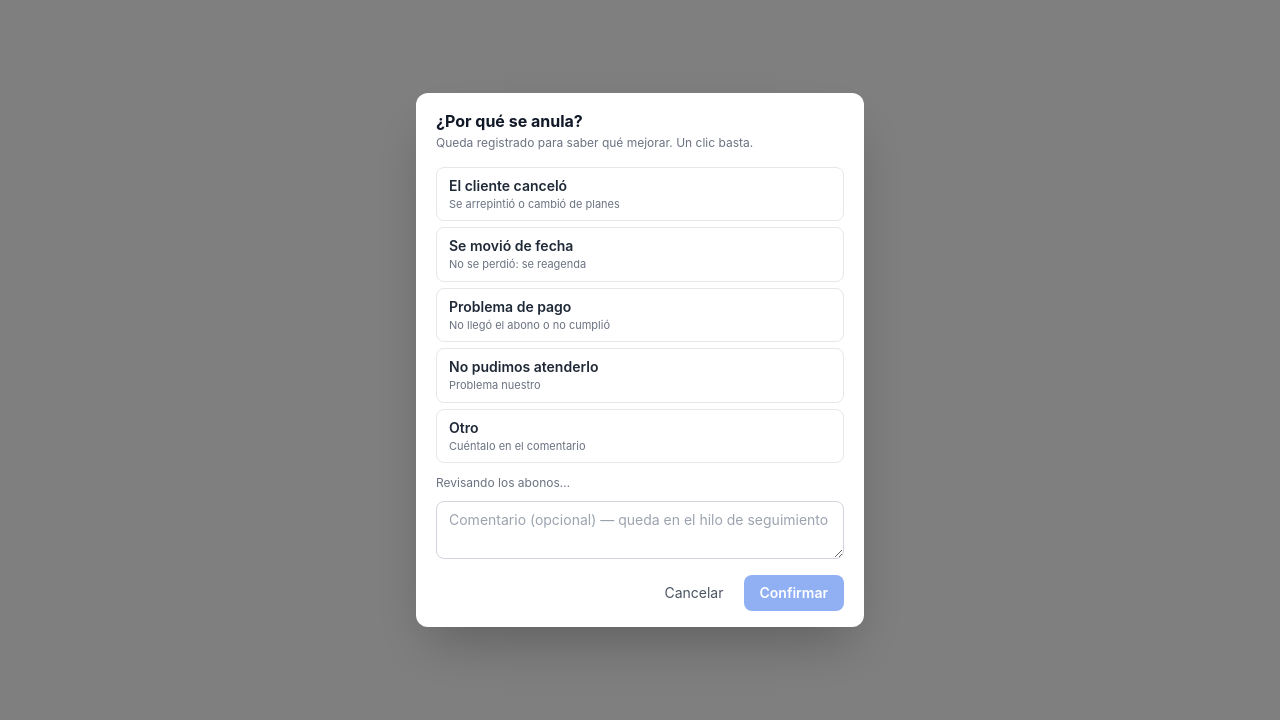
Anular con abonos › sin abonos no pregunta nada
What coordinates should you click on to do the following:
click the text "No pudimos atenderlo"
I would click on:
 (524, 367)
Its box is 449,358 -> 598,375.
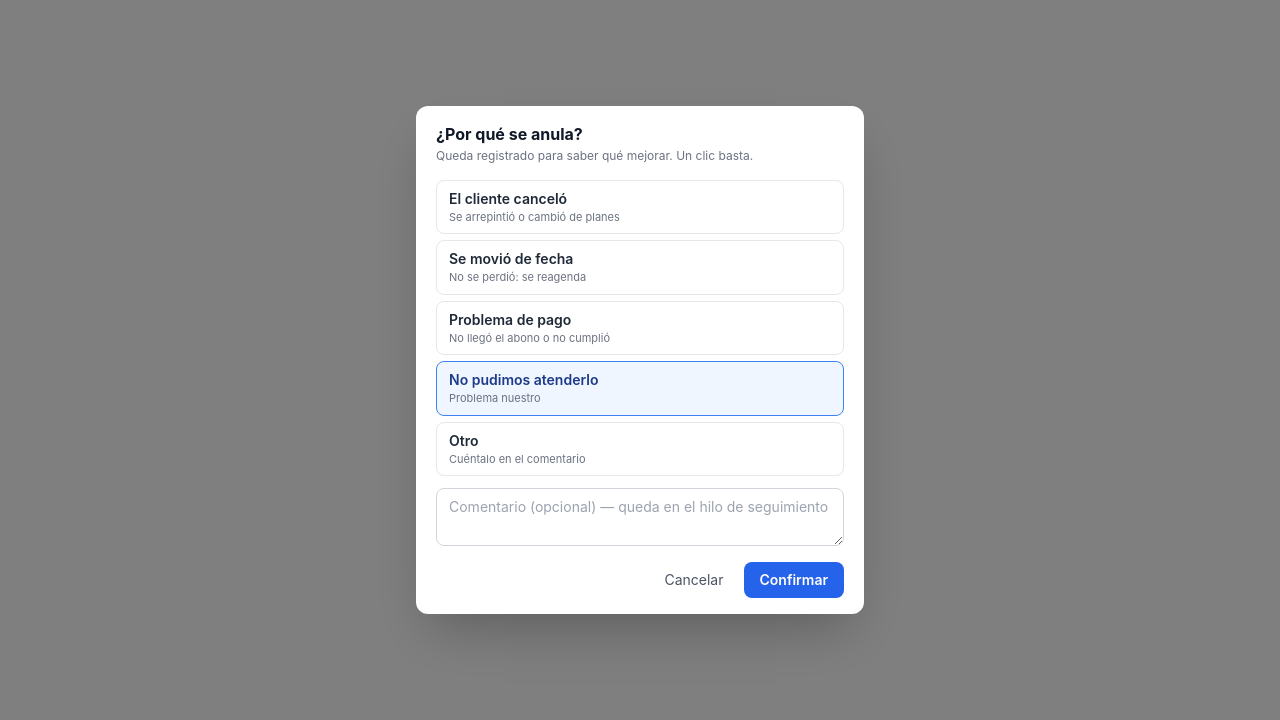
Now the button "Confirmar" is enabled, box 744,562 -> 844,598
